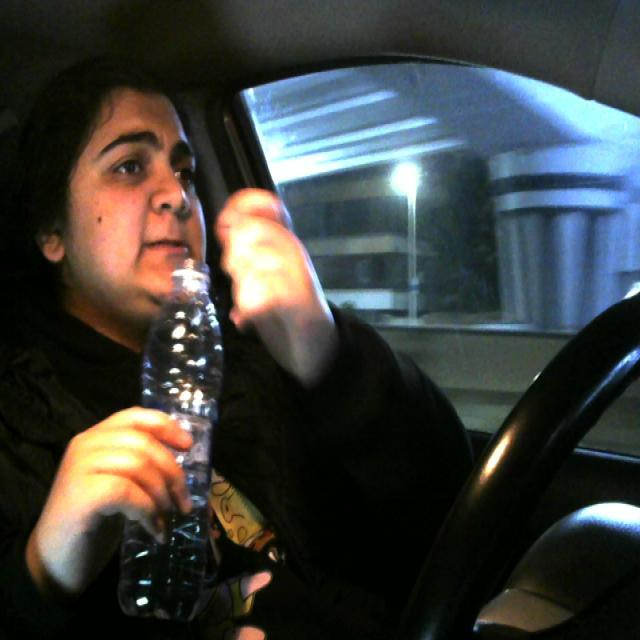Seatbelt: (119, 269, 219, 626)
